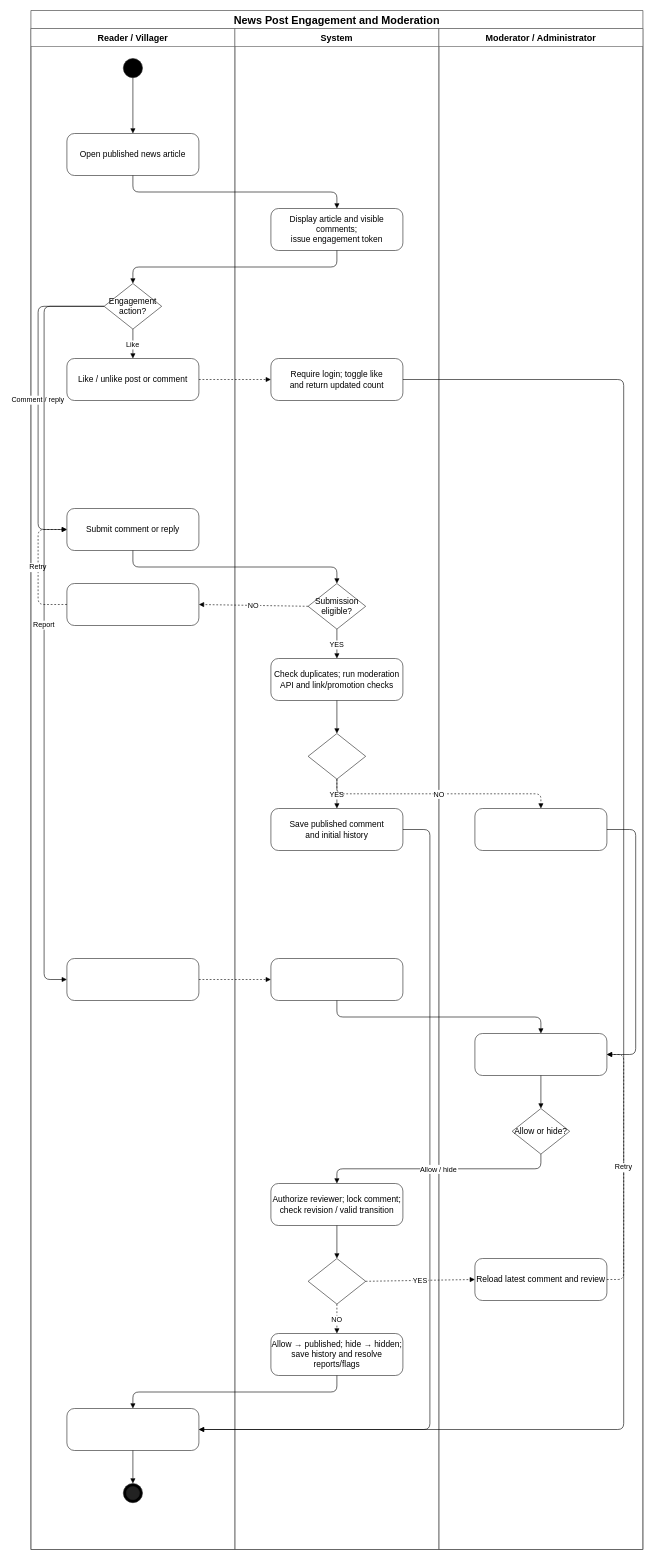
Some shapes in this 653 by 1560 pixel diagram are drawn without their labels. Each missing label, with the centre of its shape:
"Clean valid result?" goes at point (337, 756).
"Comment awaits human review (pending_review)" goes at point (540, 829).
"Conflict detected?" goes at point (337, 1281).
"Correct input / challenge / quota or sign in" goes at point (132, 604).
"Inspect pending / reported / flagged comment and supporting history" goes at point (540, 1054).
"Report published comment (login required)" goes at point (132, 979).
"Save report; add to review queue without auto-hiding comment" goes at point (336, 979).
"View updated public engagement state" goes at point (132, 1429).
